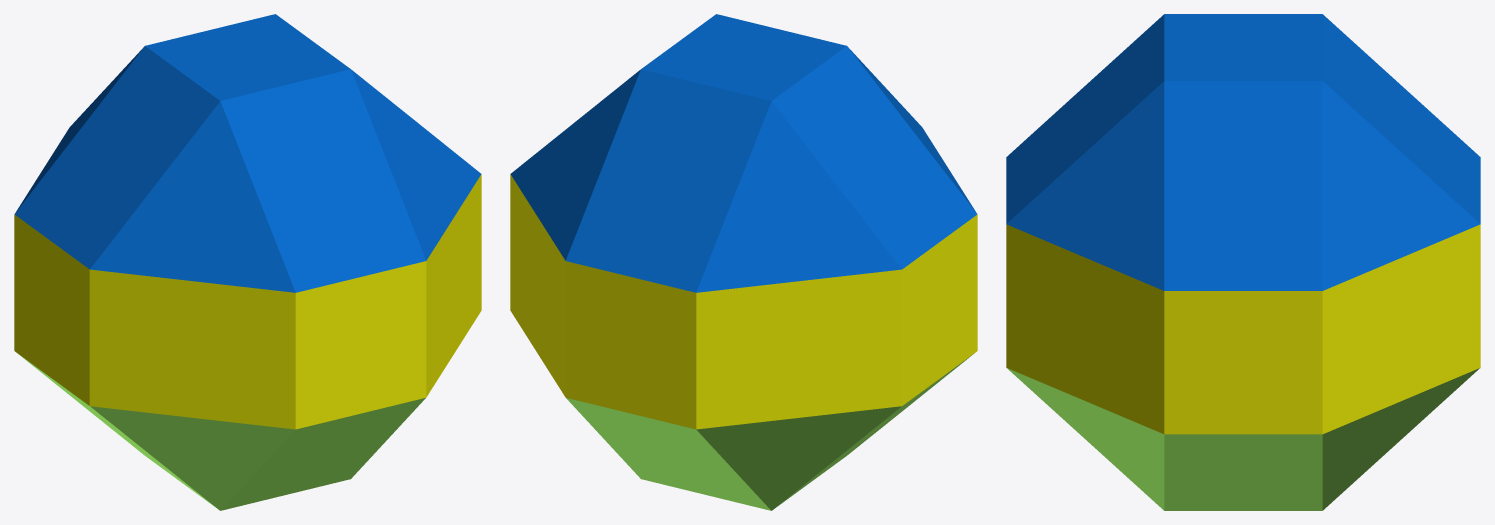
Rendered from truc2.obj.
3 views of the same model, side by side, from view 1: azimuth 30°, elevation 25°; view 2: azimuth 150°, elevation 25°; view 3: azimuth 270°, elevation 25° (orthographic). The views are drawn at different scales.
Parts seen in each view (by area): view 1: octotoad1_couleur_000_102_203, octotoad1_couleur_256_256_001, octotoad1_couleur_163_254_102; view 2: octotoad1_couleur_000_102_203, octotoad1_couleur_256_256_001, octotoad1_couleur_163_254_102; view 3: octotoad1_couleur_000_102_203, octotoad1_couleur_256_256_001, octotoad1_couleur_163_254_102.
Boxes of the visible parts, bbox=[...] form: octotoad1_couleur_000_102_203: bbox=[14, 14, 481, 292]; octotoad1_couleur_256_256_001: bbox=[14, 174, 481, 429]; octotoad1_couleur_163_254_102: bbox=[18, 354, 425, 510]; octotoad1_couleur_000_102_203: bbox=[510, 14, 977, 292]; octotoad1_couleur_256_256_001: bbox=[510, 174, 977, 429]; octotoad1_couleur_163_254_102: bbox=[566, 354, 973, 510]; octotoad1_couleur_000_102_203: bbox=[1006, 14, 1480, 290]; octotoad1_couleur_256_256_001: bbox=[1006, 224, 1480, 434]; octotoad1_couleur_163_254_102: bbox=[1007, 368, 1479, 510].
Bounding box in the file's own units: 2 × 2 × 2.
